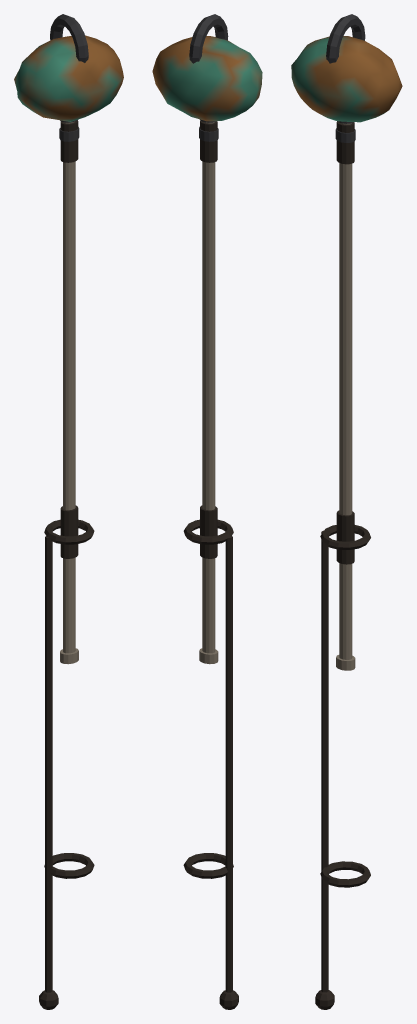
File: tidebell-maul.glb
3 views of the same model, side by side, from view 1: azimuth 30°, elevation 25°; view 2: azimuth 150°, elevation 25°; view 3: azimuth 330°, elevation 25° (orthographic).
Visible parts, largest first — view 1: weapon, carrier; view 2: weapon, carrier; view 3: weapon, carrier.
Boxes of the visible parts, x1,y1,x2,y2 form: weapon: (14, 14, 123, 664); carrier: (39, 519, 94, 1009); weapon: (152, 14, 262, 664); carrier: (183, 519, 238, 1009); weapon: (291, 14, 402, 670); carrier: (315, 525, 370, 1009).
Bounding box in the file's own units: 0.2203 × 2.07 × 0.158.
